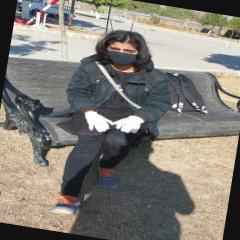gloved: (84, 110, 117, 134), (114, 113, 144, 135)
